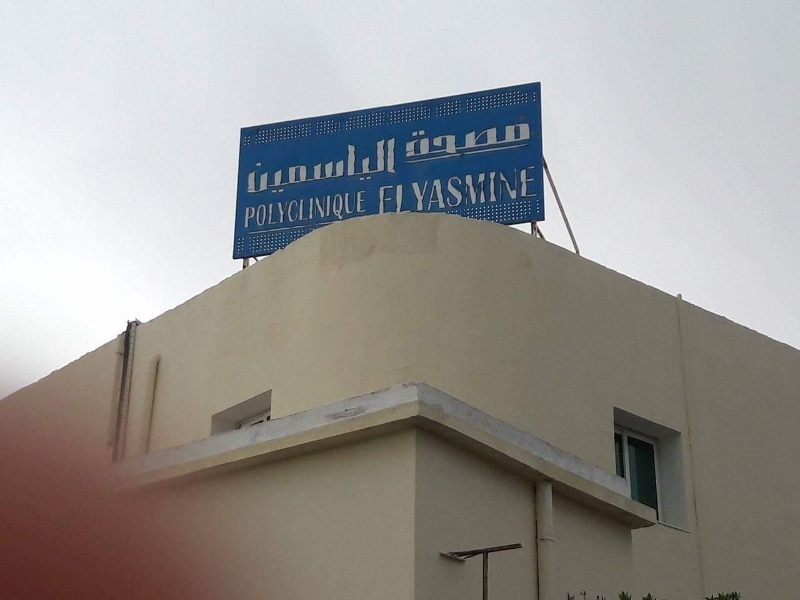text: (257, 134, 272, 199), (273, 134, 288, 199), (289, 134, 304, 199), (305, 134, 320, 199), (321, 134, 336, 199), (337, 134, 352, 199), (353, 134, 368, 199), (369, 134, 384, 199), (385, 162, 400, 223), (401, 162, 416, 223), (417, 162, 432, 223), (433, 162, 448, 223), (449, 162, 464, 223), (465, 162, 480, 223), (481, 162, 496, 223), (497, 162, 512, 223), (513, 162, 528, 223), (385, 134, 398, 199), (529, 162, 541, 223), (417, 116, 432, 164), (433, 116, 448, 164), (449, 116, 464, 164), (465, 116, 480, 164), (481, 116, 496, 164), (497, 116, 512, 164), (513, 116, 528, 164), (257, 186, 272, 234), (273, 186, 288, 234), (289, 186, 304, 234), (305, 186, 320, 234), (321, 186, 336, 234), (337, 186, 352, 234), (353, 186, 368, 234), (245, 186, 256, 234), (406, 116, 416, 164), (377, 162, 384, 223), (252, 134, 256, 199), (529, 116, 531, 164), (369, 186, 370, 234)
